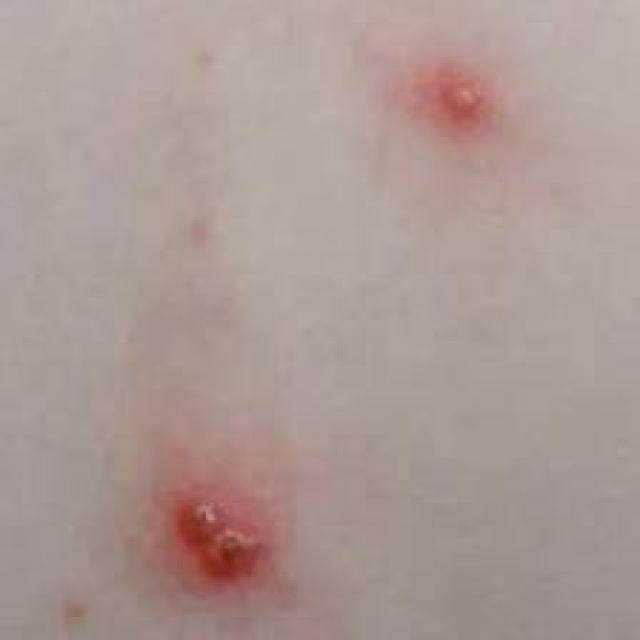others: (89, 24, 573, 635)
